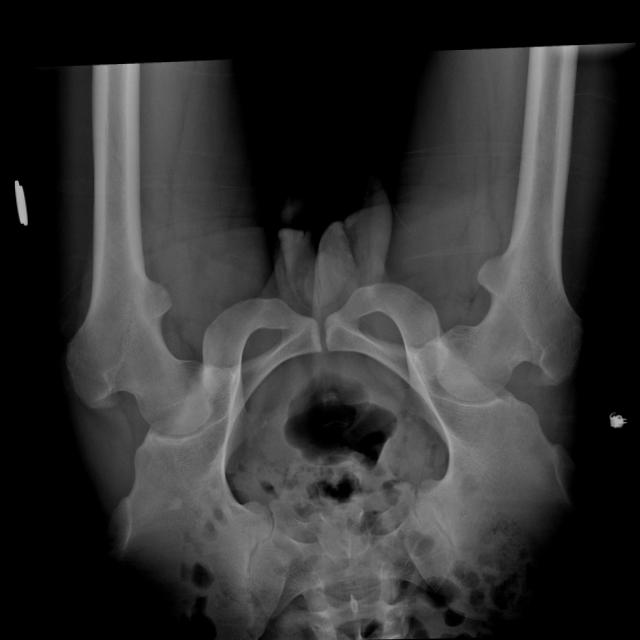normal-left: (64, 173, 216, 434)
normal-right: (432, 171, 581, 400)
